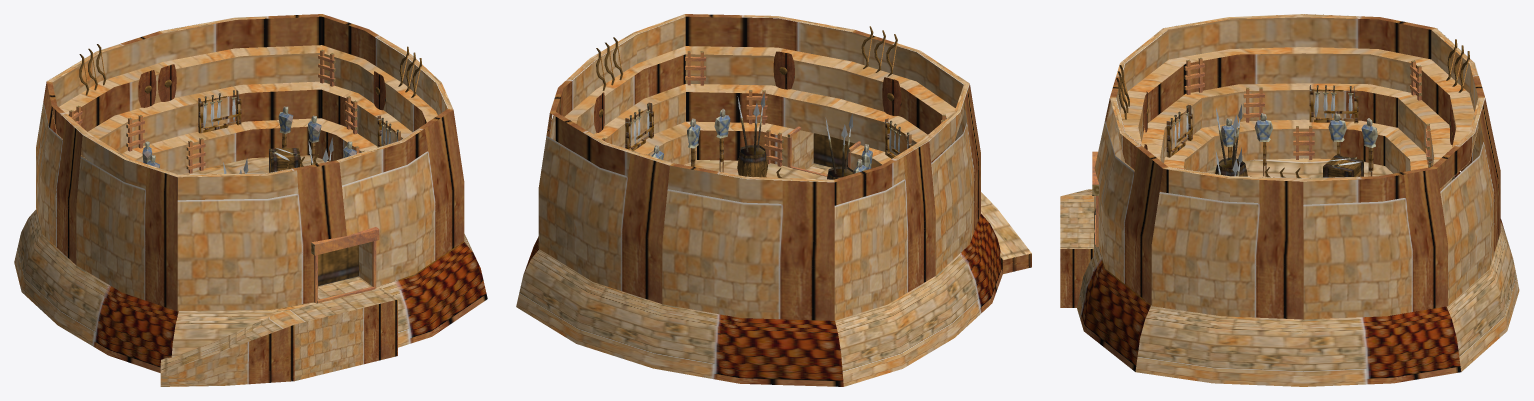
The model's file is fortress.dae.
The picture shows the model from 3 angles, left to right: view 1: azimuth 30°, elevation 25°; view 2: azimuth 150°, elevation 25°; view 3: azimuth 270°, elevation 25°; orthographic projection. The views are drawn at different scales.
Parts seen in each view (by area): view 1: fortress; view 2: fortress; view 3: fortress.
Part boxes in pixels (left/top/right/bottom): fortress: left=14, top=14, right=487, bottom=386; fortress: left=516, top=14, right=1031, bottom=386; fortress: left=1060, top=14, right=1519, bottom=386.
Bounding box in the file's own units: 27.91 × 28.07 × 13.73.
